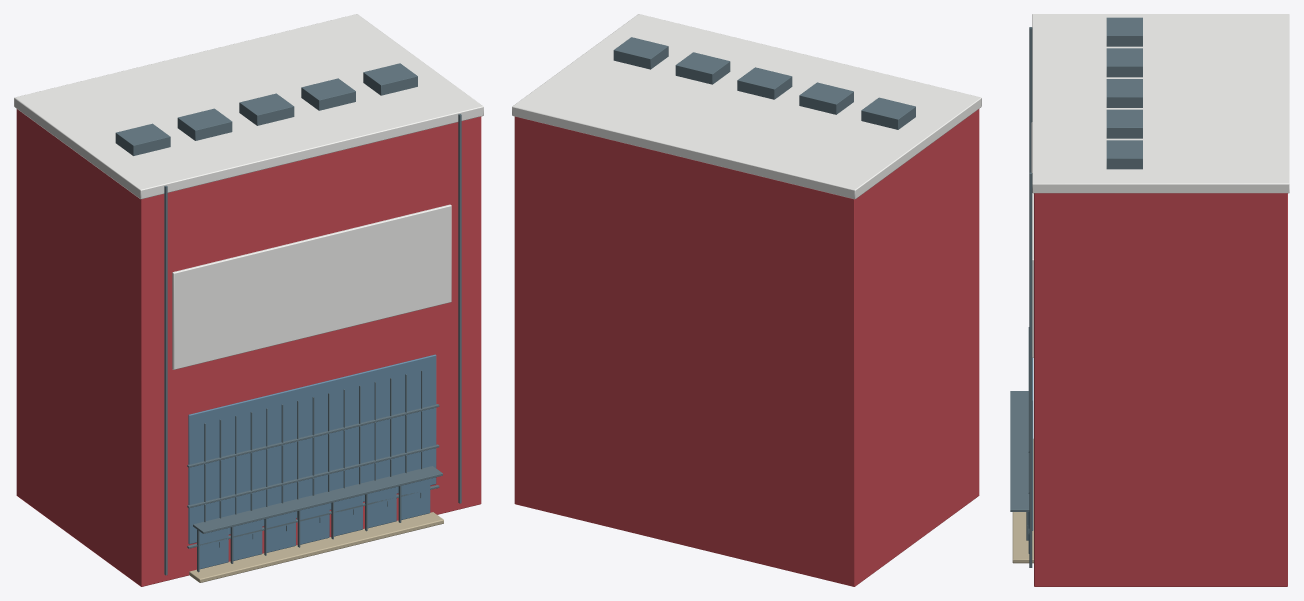
Rendered from camera_store.glb.
3 renders of one model, left to right at view 1: azimuth 30°, elevation 25°; view 2: azimuth 150°, elevation 25°; view 3: azimuth 270°, elevation 25°, orthographic.
Parts seen in each view (by area): view 1: Detail.camera_store.Red, Detail.camera_store.White, Detail.camera_store.Glass, Detail.camera_store.Detail.Metal, Detail.camera_store.Detail.Glass, Detail.camera_store.Detail.Stone; view 2: Detail.camera_store.Red, Detail.camera_store.White, Detail.camera_store.Detail.Metal; view 3: Detail.camera_store.Red, Detail.camera_store.White, Detail.camera_store.Detail.Metal, Detail.camera_store.Detail.Stone.
Part boxes in pixels (<box>): Detail.camera_store.Red: <box>16,109,481,586</box>; Detail.camera_store.White: <box>14,14,483,369</box>; Detail.camera_store.Glass: <box>188,354,436,544</box>; Detail.camera_store.Detail.Metal: <box>115,63,461,575</box>; Detail.camera_store.Detail.Glass: <box>199,479,430,569</box>; Detail.camera_store.Detail.Stone: <box>189,512,443,582</box>; Detail.camera_store.Red: <box>514,109,979,586</box>; Detail.camera_store.White: <box>512,14,981,199</box>; Detail.camera_store.Detail.Metal: <box>613,37,915,129</box>; Detail.camera_store.Red: <box>1034,193,1287,586</box>; Detail.camera_store.White: <box>1031,14,1289,357</box>; Detail.camera_store.Detail.Metal: <box>1010,17,1142,567</box>; Detail.camera_store.Detail.Stone: <box>1012,438,1033,563</box>.
Bounding box in the file's own units: 22.2 × 25.25 × 15.42.
